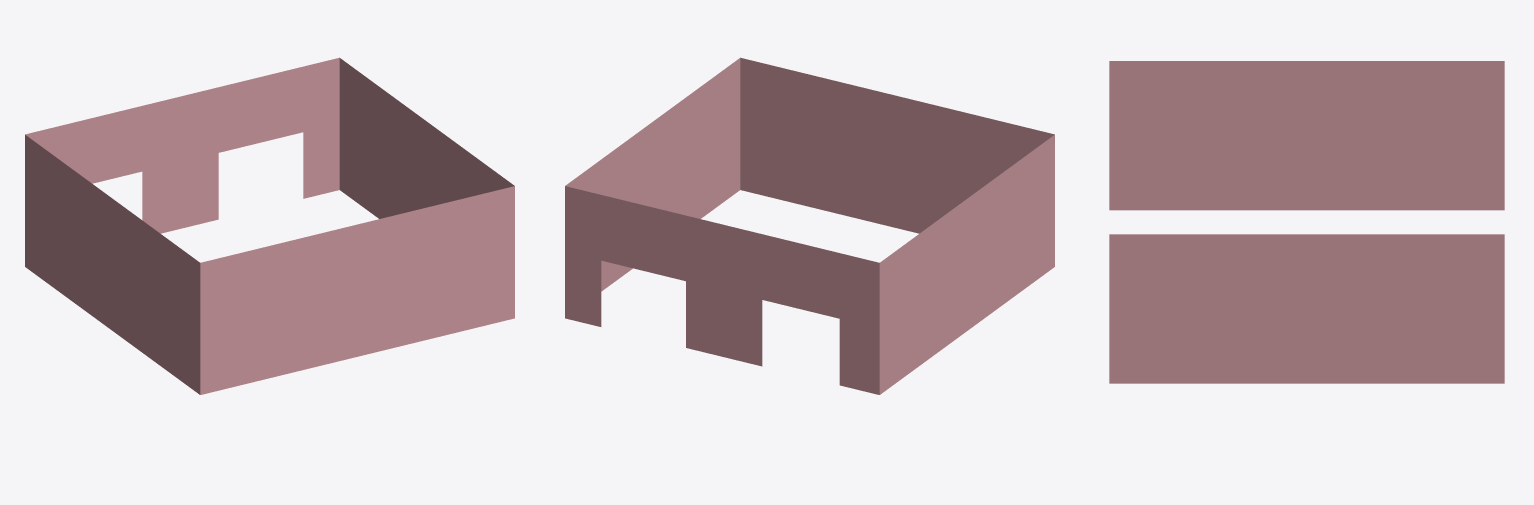
The model's file is Bld_R_low_L1_C.fbx.
3 views of the same model, side by side, from view 1: azimuth 30°, elevation 25°; view 2: azimuth 150°, elevation 25°; view 3: azimuth 270°, elevation 25° (orthographic). The views are drawn at different scales.
Visible parts, largest first — view 1: Bld_R_low_L1_C_LOD0; view 2: Bld_R_low_L1_C_LOD0; view 3: Bld_R_low_L1_C_LOD0.
Boxes of the visible parts, x1,y1,x2,y2 form: Bld_R_low_L1_C_LOD0: (25, 57, 514, 394); Bld_R_low_L1_C_LOD0: (565, 57, 1054, 394); Bld_R_low_L1_C_LOD0: (1109, 61, 1504, 383).
Size of what is drawn, in the model's own units: 600 by 544 by 600.
1 material, 1 textured.
